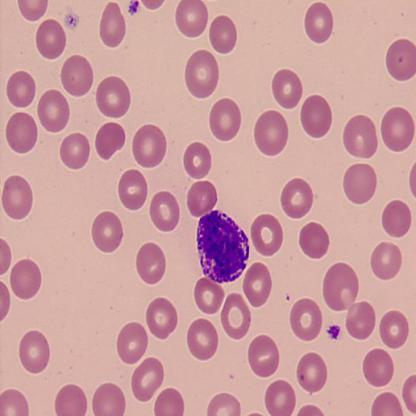Basophil: (193, 206, 252, 286)
